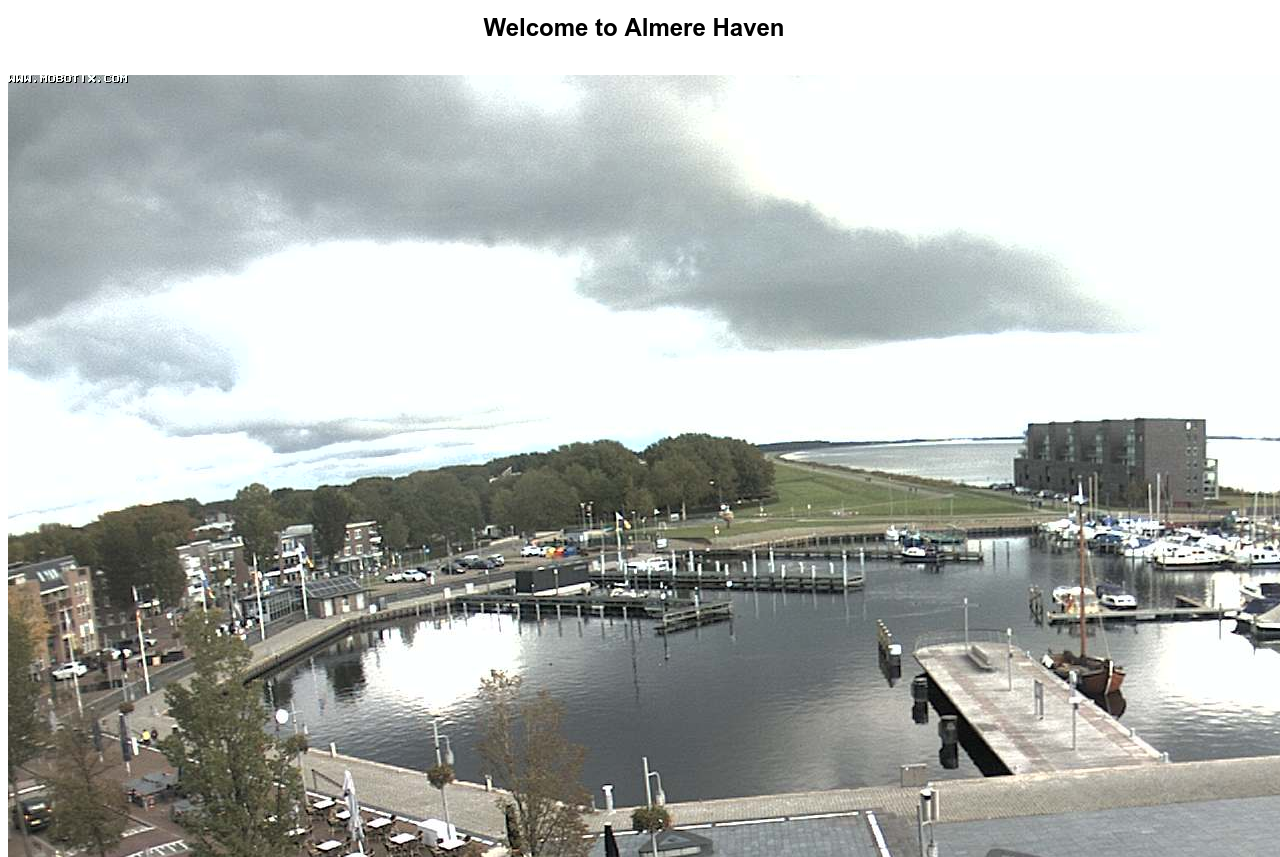maybe: (292, 540, 315, 569)
no: (197, 573, 214, 598)
yes: (614, 515, 633, 530)
